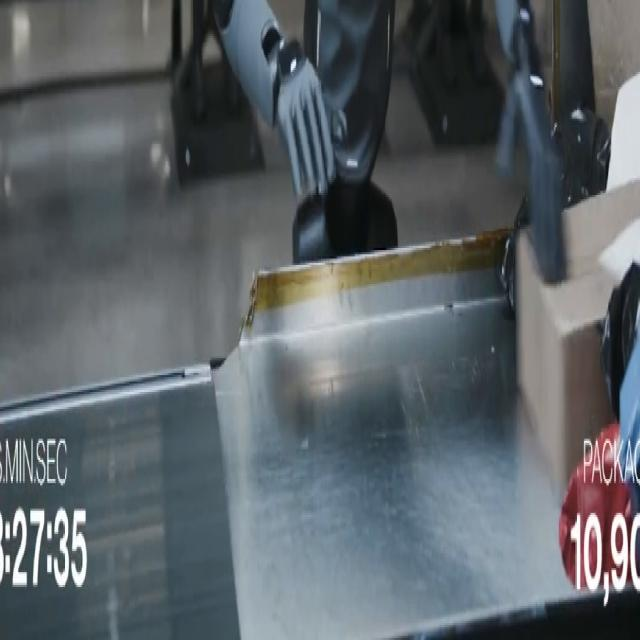package: (516, 183, 639, 487), (553, 111, 610, 207)
